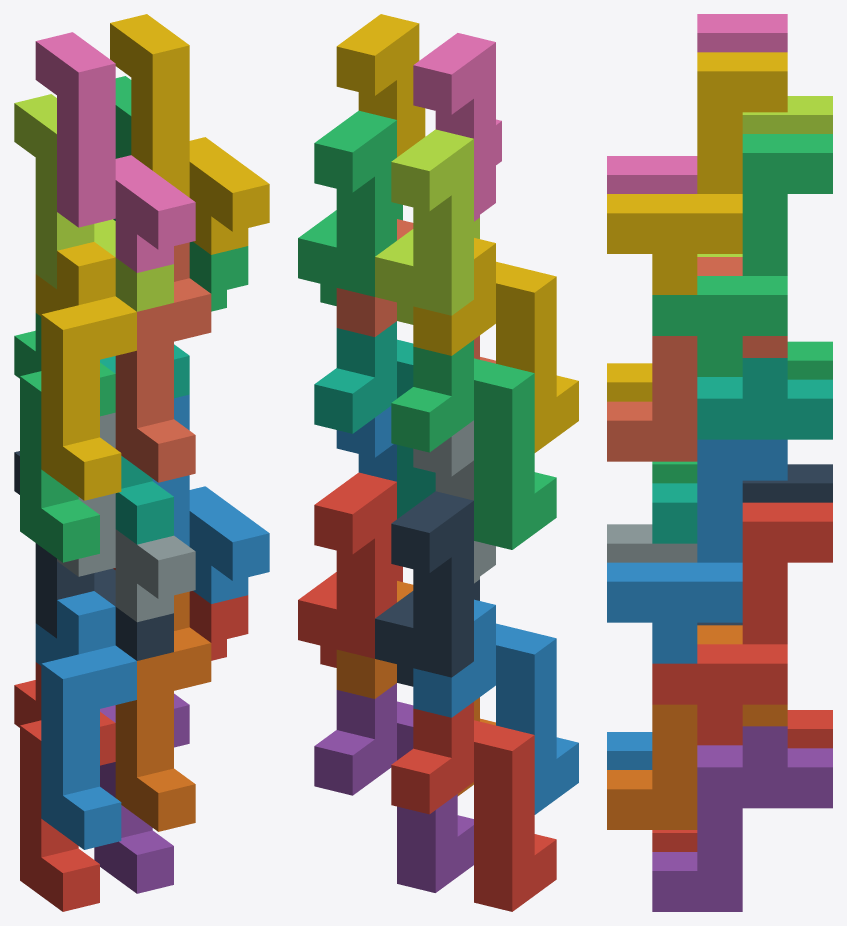
File: tiling.obj
3 renders of one model, left to right at view 1: azimuth 30°, elevation 25°; view 2: azimuth 150°, elevation 25°; view 3: azimuth 270°, elevation 25°, orthographic. The views are drawn at different scales.
Visible parts, largest first — view 1: copy_2_domain_4, copy_1_domain_2, copy_1_domain_4, copy_2_domain_8, copy_1_domain_8, copy_1_domain_6, copy_1_domain_1, copy_1_domain_3, copy_2_domain_3, copy_2_domain_6, copy_2_domain_2, copy_2_domain_1 (+4 smaller); view 2: copy_1_domain_1, copy_1_domain_3, copy_2_domain_1, copy_2_domain_3, copy_1_domain_4, copy_1_domain_2, copy_2_domain_5, copy_2_domain_7, copy_1_domain_5, copy_1_domain_7, copy_2_domain_4, copy_2_domain_8 (+4 smaller); view 3: copy_2_domain_8, copy_2_domain_5, copy_2_domain_7, copy_2_domain_6, copy_1_domain_5, copy_1_domain_7, copy_1_domain_6, copy_1_domain_8, copy_2_domain_4, copy_2_domain_1, copy_2_domain_3, copy_1_domain_3 (+4 smaller).
Part boxes in pixels (x1,y1,x2,y2): copy_2_domain_4: (35,32,195,272); copy_1_domain_2: (35,591,136,849); copy_1_domain_4: (35,242,136,500); copy_2_domain_8: (110,14,269,254); copy_1_domain_8: (115,242,211,482); copy_1_domain_6: (115,591,211,831); copy_1_domain_1: (14,662,115,911); copy_1_domain_3: (14,313,115,562); copy_2_domain_3: (14,94,173,311); copy_2_domain_6: (152,394,269,603); copy_2_domain_2: (57,412,195,622); copy_2_domain_1: (14,451,173,660); copy_1_domain_1: (391,702,556,911); copy_1_domain_3: (391,340,556,549); copy_2_domain_1: (375,491,479,686); copy_2_domain_3: (375,129,479,324); copy_1_domain_4: (413,238,578,452); copy_1_domain_2: (413,599,578,814); copy_2_domain_5: (298,472,402,667); copy_2_domain_7: (298,110,402,305); copy_1_domain_5: (314,683,473,892); copy_1_domain_7: (314,321,435,518); copy_2_domain_4: (413,33,501,221); copy_2_domain_8: (336,14,425,157); copy_2_domain_8: (607,52,787,294); copy_2_domain_5: (652,502,832,745); copy_2_domain_7: (652,134,832,376); copy_2_domain_6: (607,439,787,663); copy_1_domain_5: (652,726,832,911); copy_1_domain_7: (652,358,832,543); copy_1_domain_6: (607,625,787,829); copy_1_domain_8: (607,257,787,461); copy_2_domain_4: (607,14,787,193); copy_2_domain_1: (697,464,832,625); copy_2_domain_3: (697,96,832,256); copy_1_domain_3: (652,341,832,483).
Bounding box in the file's own units: 5 × 21 × 5.
